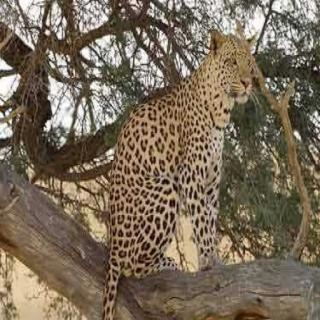Leopard: (61, 16, 285, 312)
